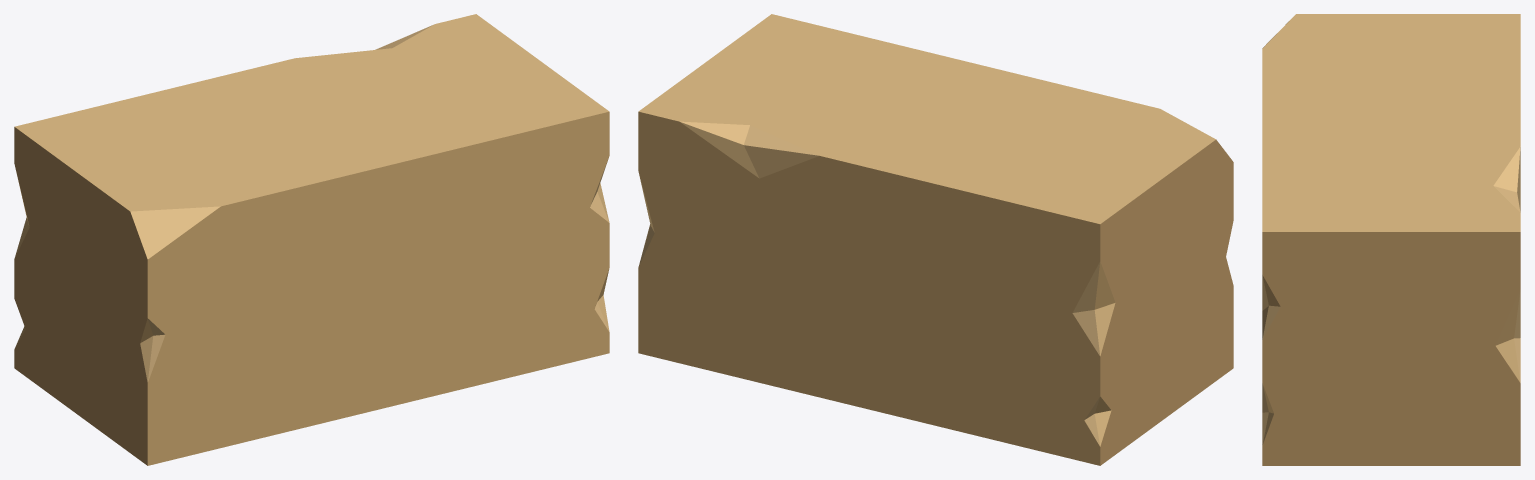
The model's file is ST_Env_Block_03.fbx.
3 renders of one model, left to right at view 1: azimuth 30°, elevation 25°; view 2: azimuth 150°, elevation 25°; view 3: azimuth 270°, elevation 25°, orthographic. The views are drawn at different scales.
Parts seen in each view (by area): view 1: ST_Env_Block_03; view 2: ST_Env_Block_03; view 3: ST_Env_Block_03.
Boxes of the visible parts, x1,y1,x2,y2 form: ST_Env_Block_03: (14, 14, 609, 465); ST_Env_Block_03: (638, 14, 1233, 465); ST_Env_Block_03: (1262, 14, 1520, 465).
Bounding box in the file's own units: 4 × 2 × 2.
